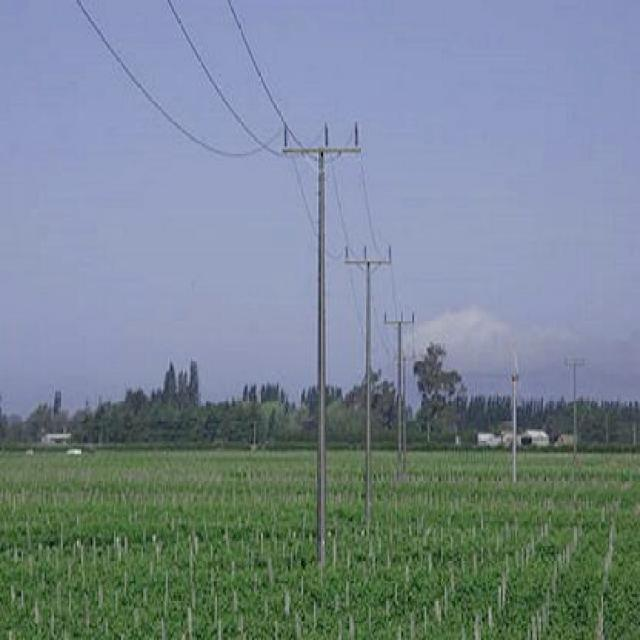crossarm: (280, 125, 365, 162)
pole: (318, 152, 329, 591)
wire: (69, 2, 254, 158), (164, 2, 326, 164), (227, 0, 358, 165), (359, 138, 388, 267)
